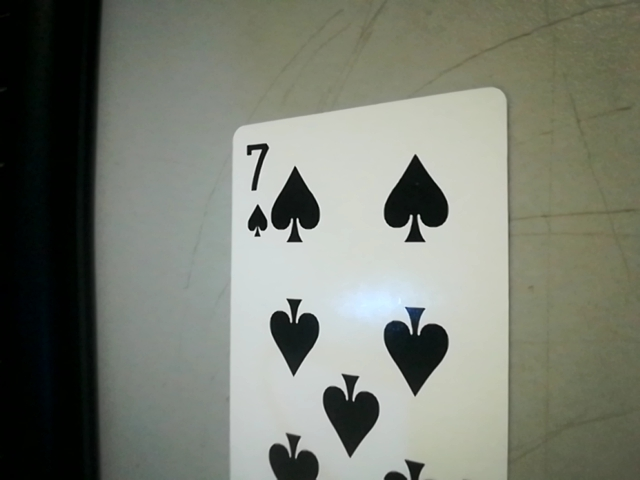ht 7: (231, 128, 277, 243)
